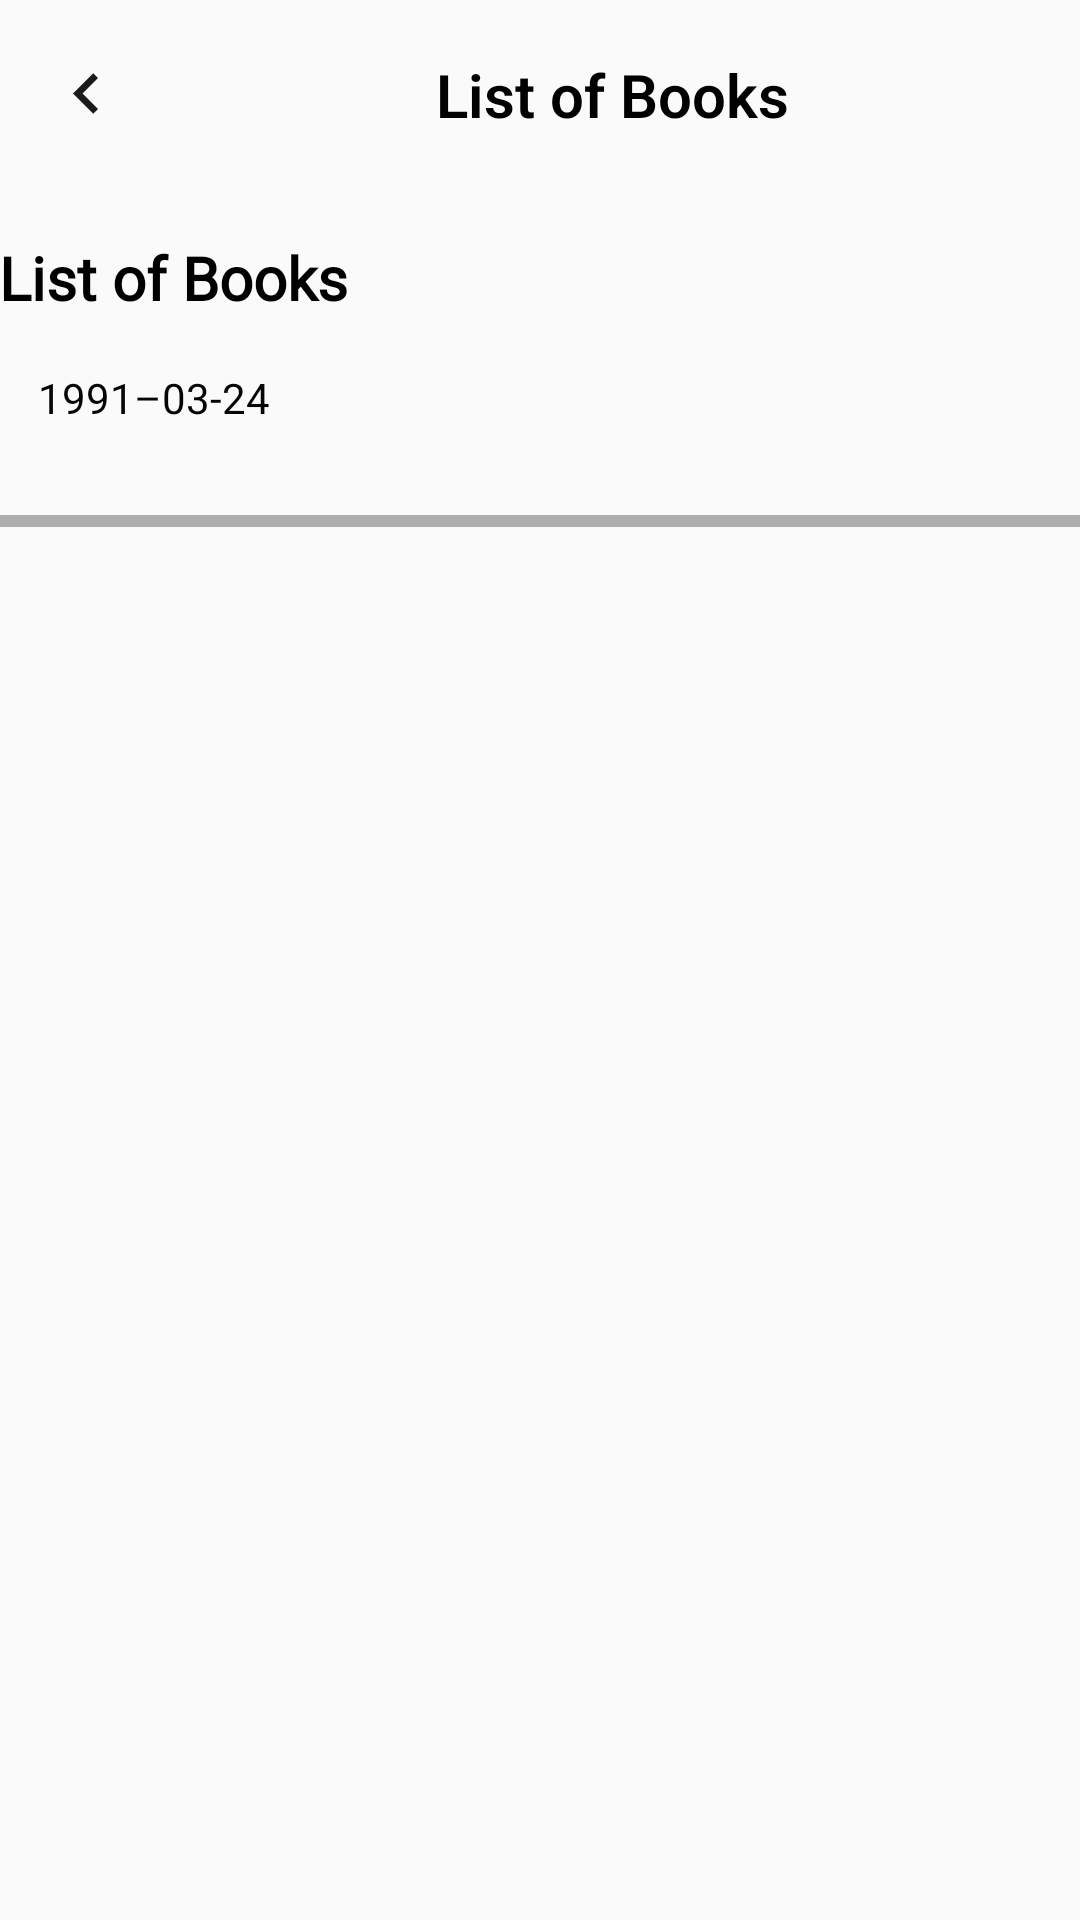

Named icons in this screenshot (1080 x 1920) and their bounding boxes, (x1, y1, x2, y2):
navigate before: (73, 73, 98, 114)
